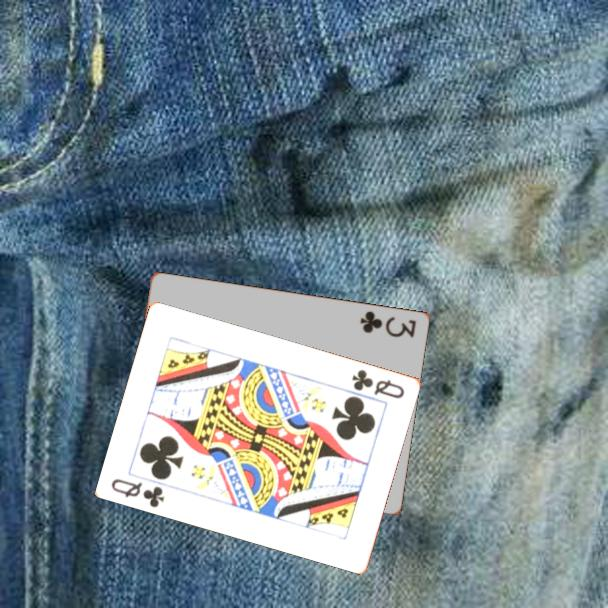c03: (357, 307, 419, 340)
c12: (108, 475, 168, 510), (349, 366, 408, 401)
